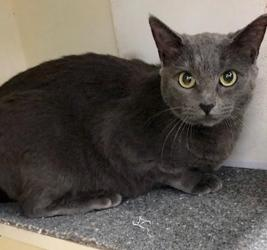rblue: (144, 10, 266, 133)
